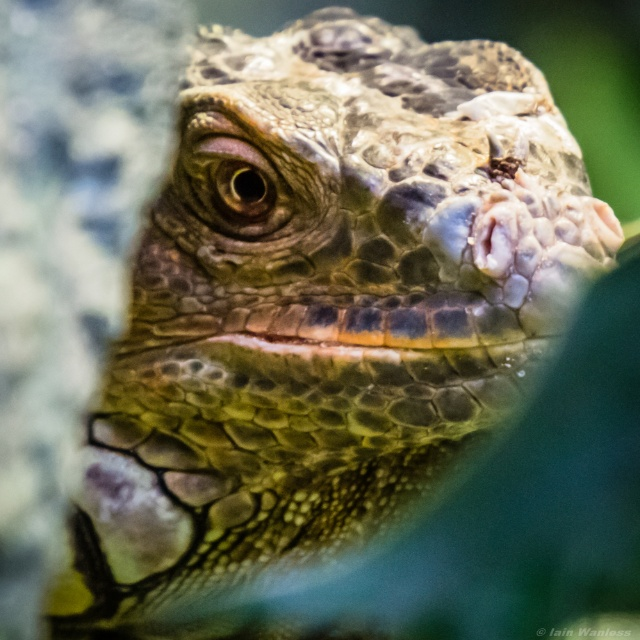Lizard: (32, 12, 628, 622)
